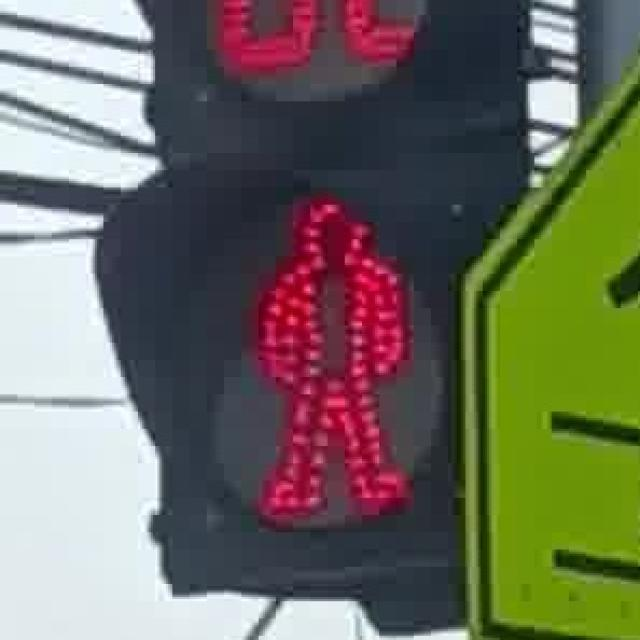red-crossing: (239, 183, 416, 530)
